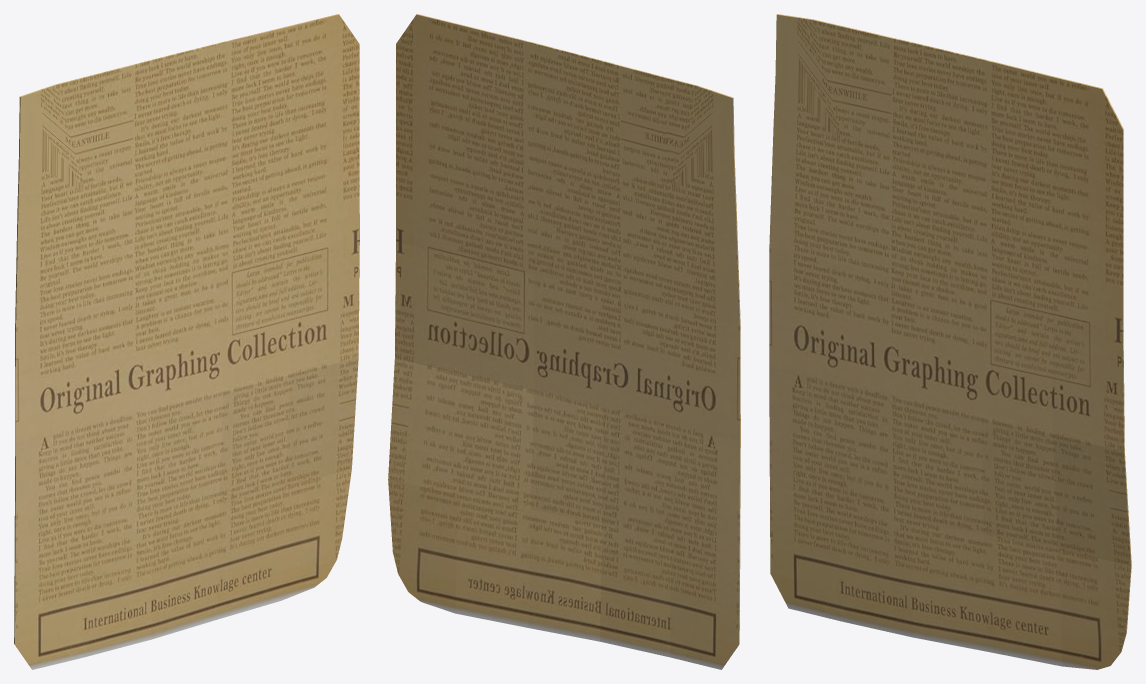
File: DocumentoFDS.fbx
3 renders of one model, left to right at view 1: azimuth 30°, elevation 25°; view 2: azimuth 150°, elevation 25°; view 3: azimuth 330°, elevation 25°, orthographic. The views are drawn at different scales.
Parts seen in each view (by area): view 1: Plane; view 2: Plane; view 3: Plane.
Boxes of the visible parts, box(x1,y1,x2,y2) form: Plane: box(14, 14, 359, 669); Plane: box(388, 14, 740, 669); Plane: box(769, 14, 1131, 669).
Bounding box in the file's own units: 200 × 323 × 12.21.
